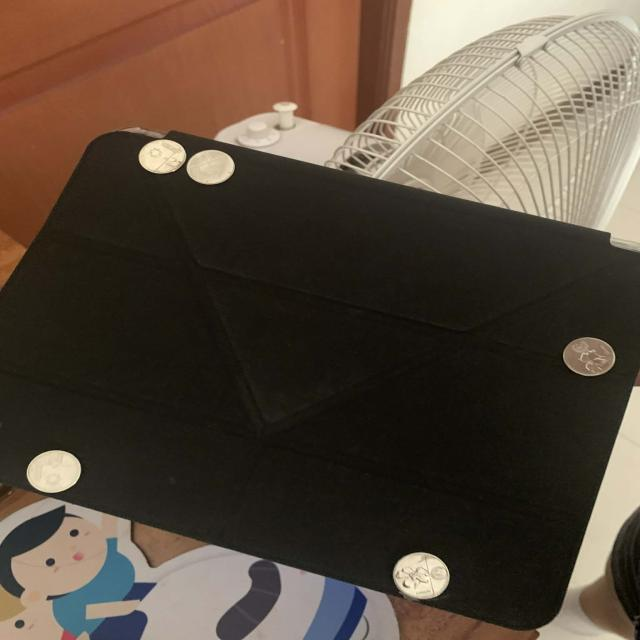25 cents: (392, 552, 452, 602), (24, 450, 84, 494), (562, 337, 616, 377), (135, 138, 189, 175), (185, 149, 236, 185)
